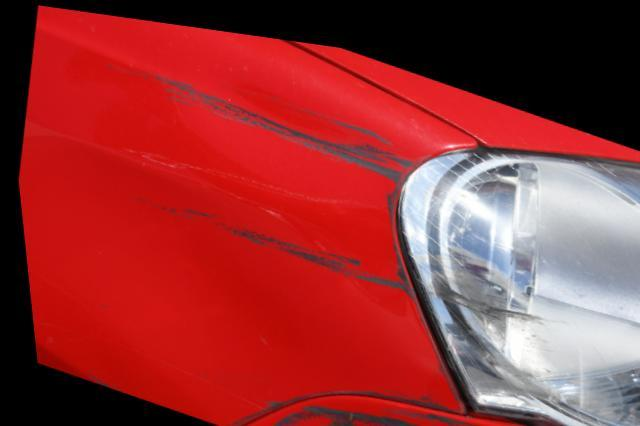rub: (97, 54, 411, 290), (221, 369, 568, 426)
scratch: (406, 229, 556, 382)
